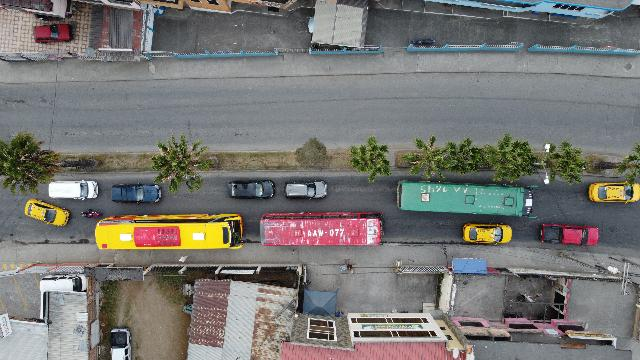Vehiculo: (540, 224, 599, 245), (24, 200, 70, 226), (589, 182, 640, 204), (462, 222, 512, 244), (49, 180, 99, 200), (111, 184, 161, 202), (228, 180, 274, 198), (284, 180, 328, 198), (34, 24, 72, 42), (110, 328, 131, 360)
